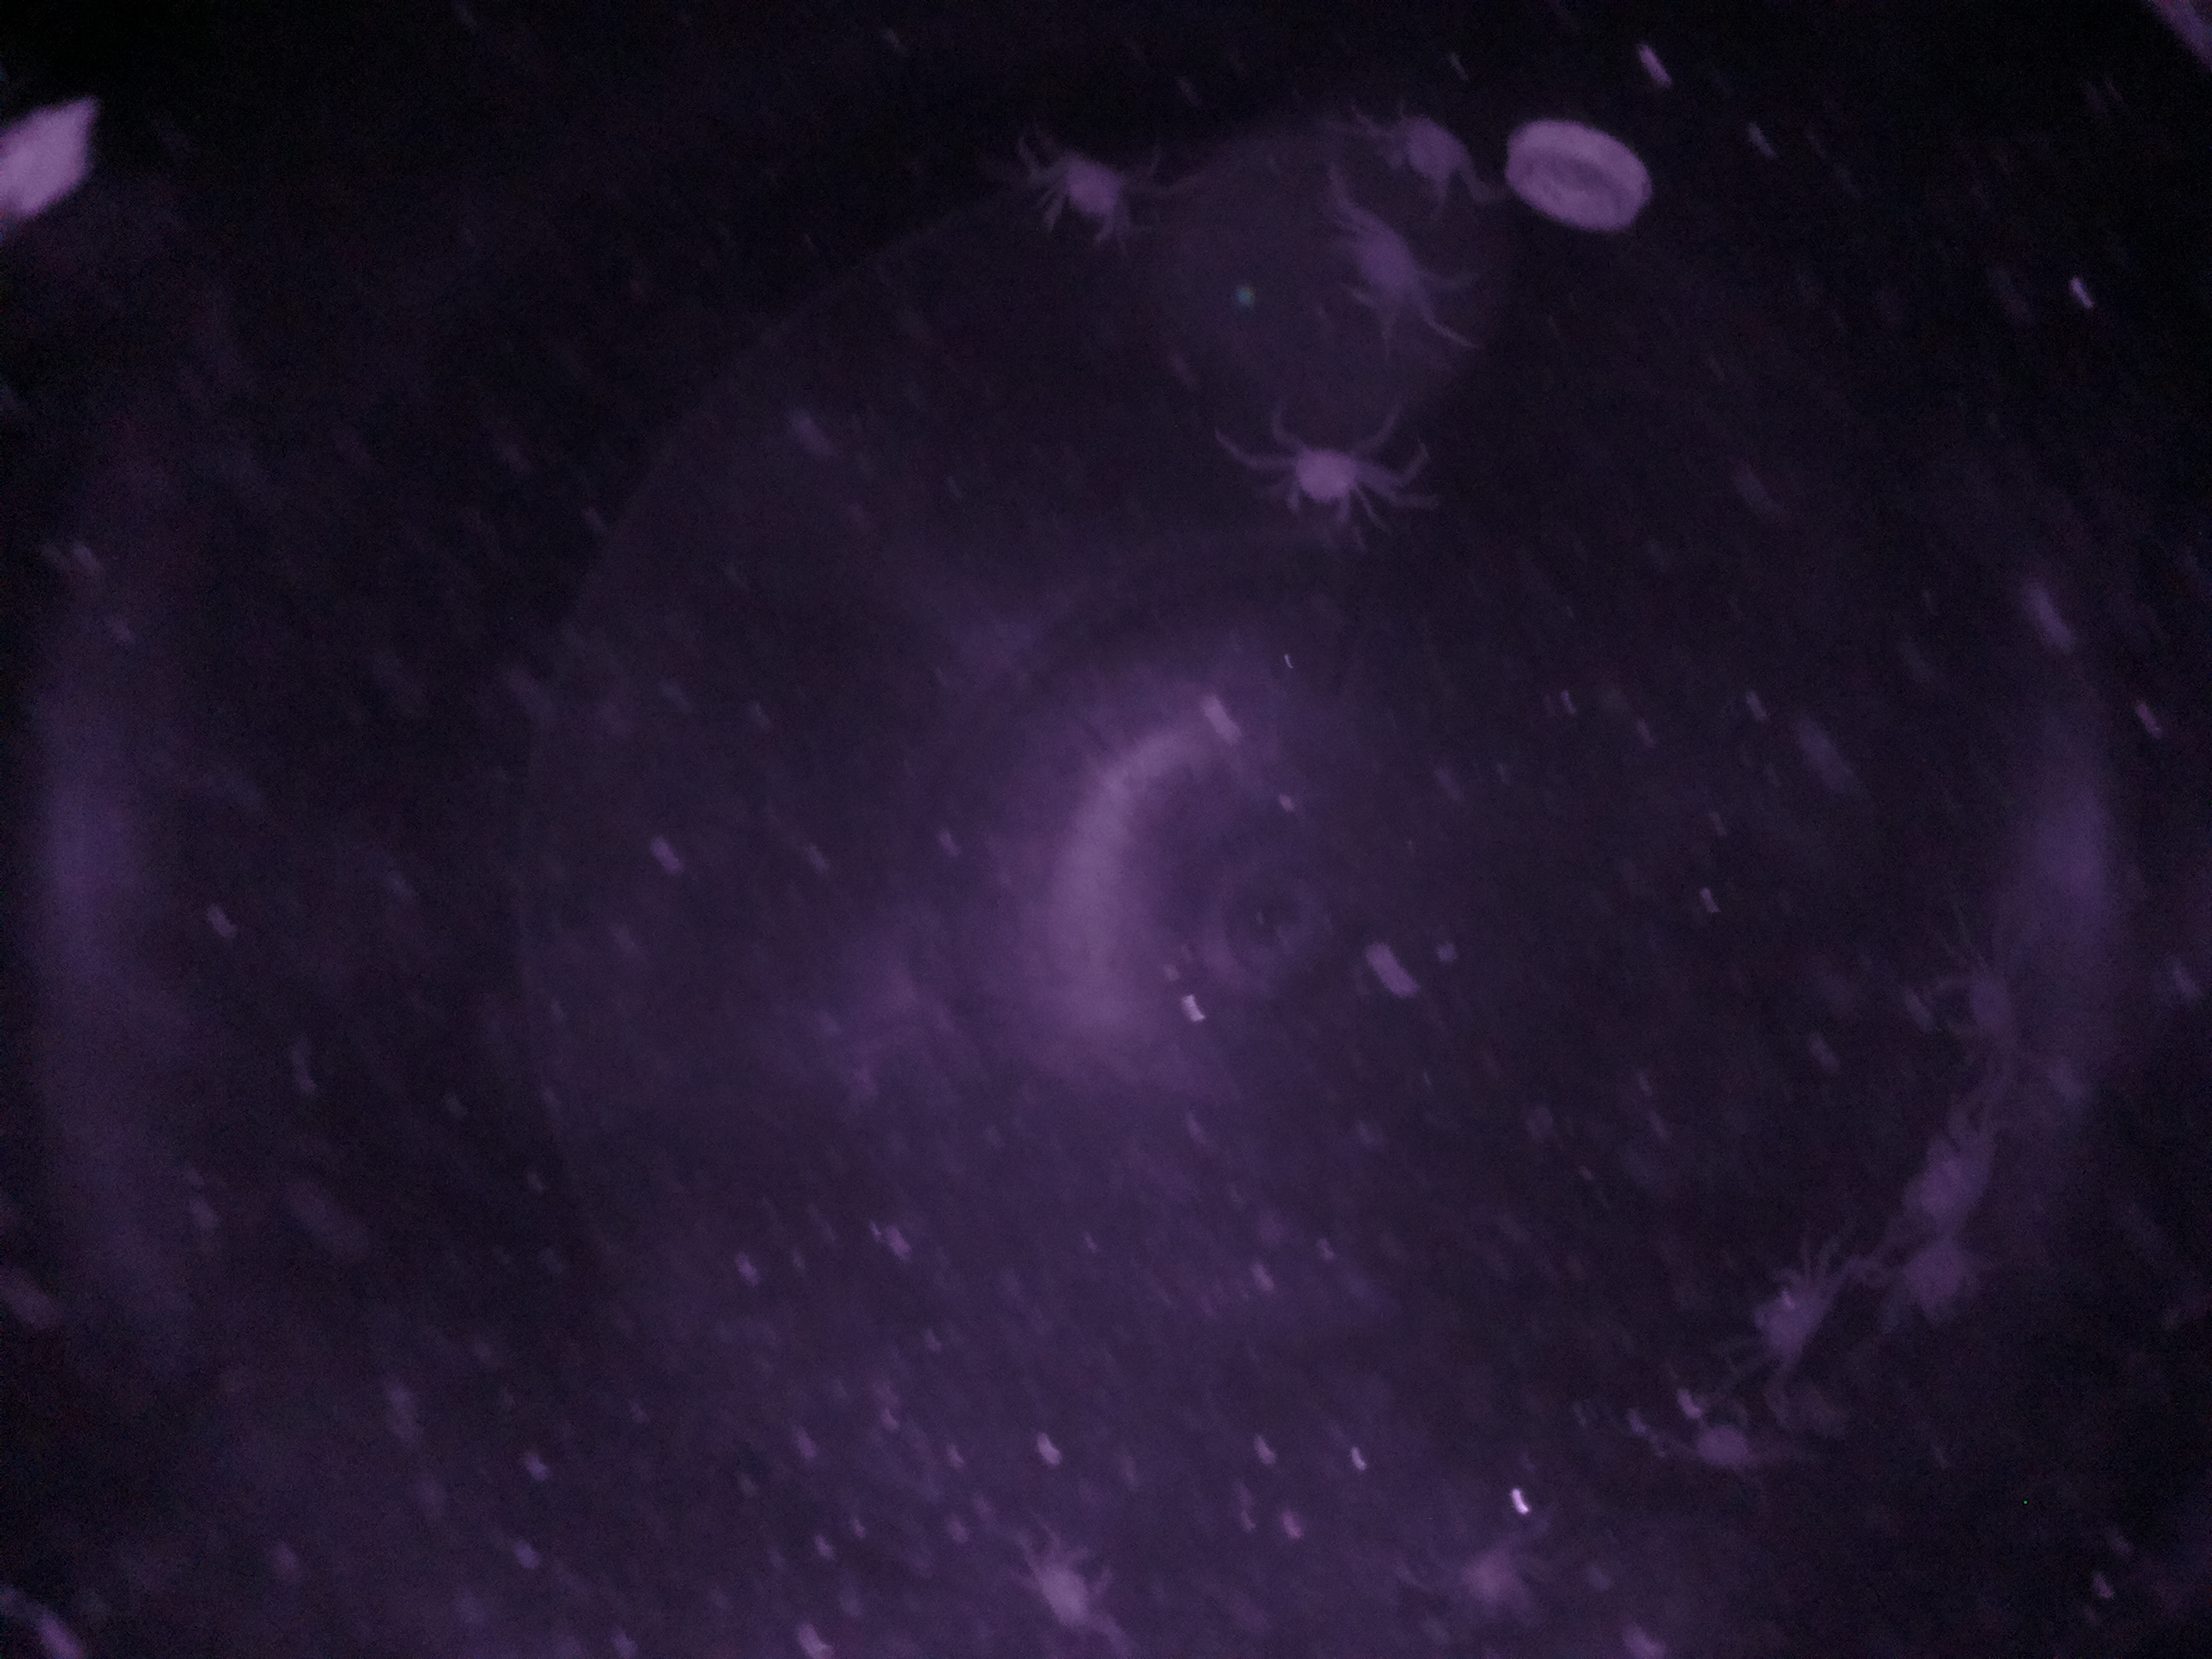Crab: (1026, 134, 1157, 256), (1733, 1253, 1839, 1380), (1271, 423, 1383, 540)
